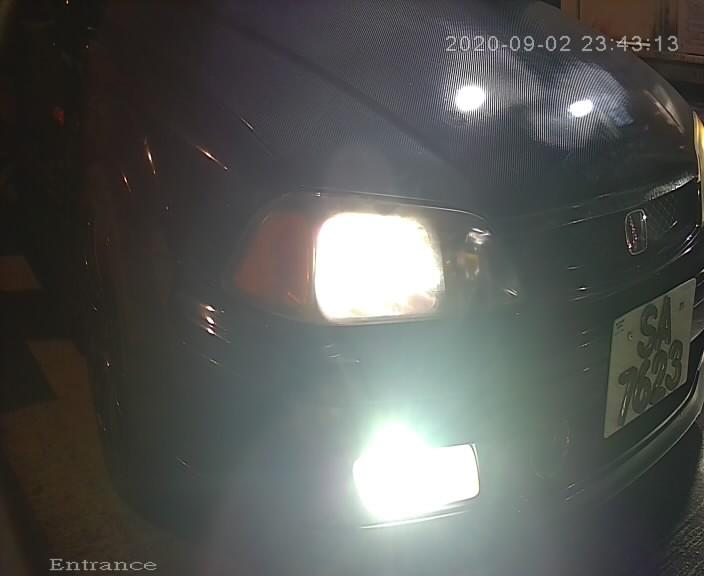License Plate: (598, 265, 699, 450)
